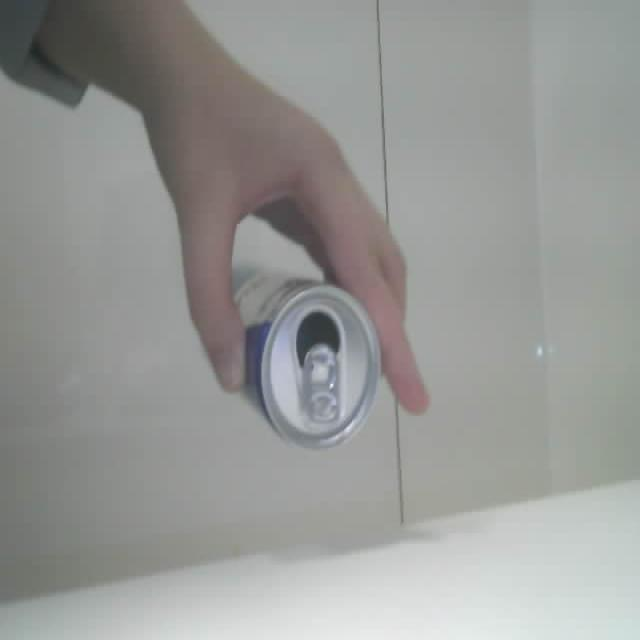redbull can: (234, 267, 380, 449)
